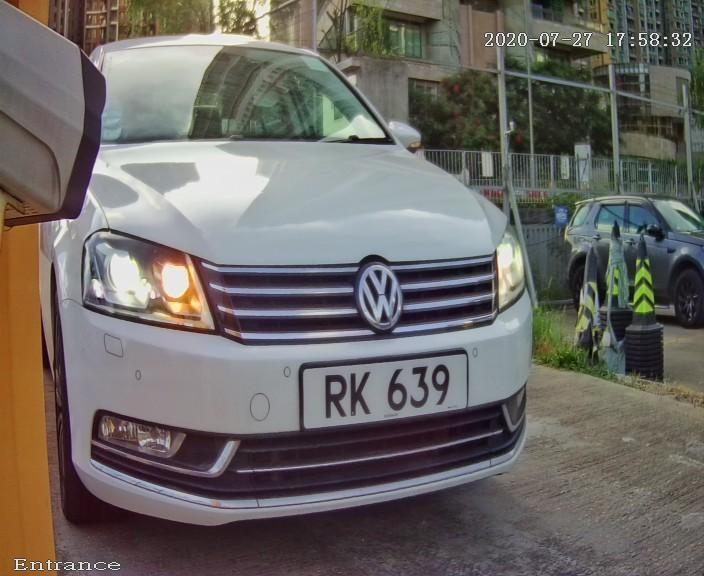privatecar: (48, 11, 598, 548)
